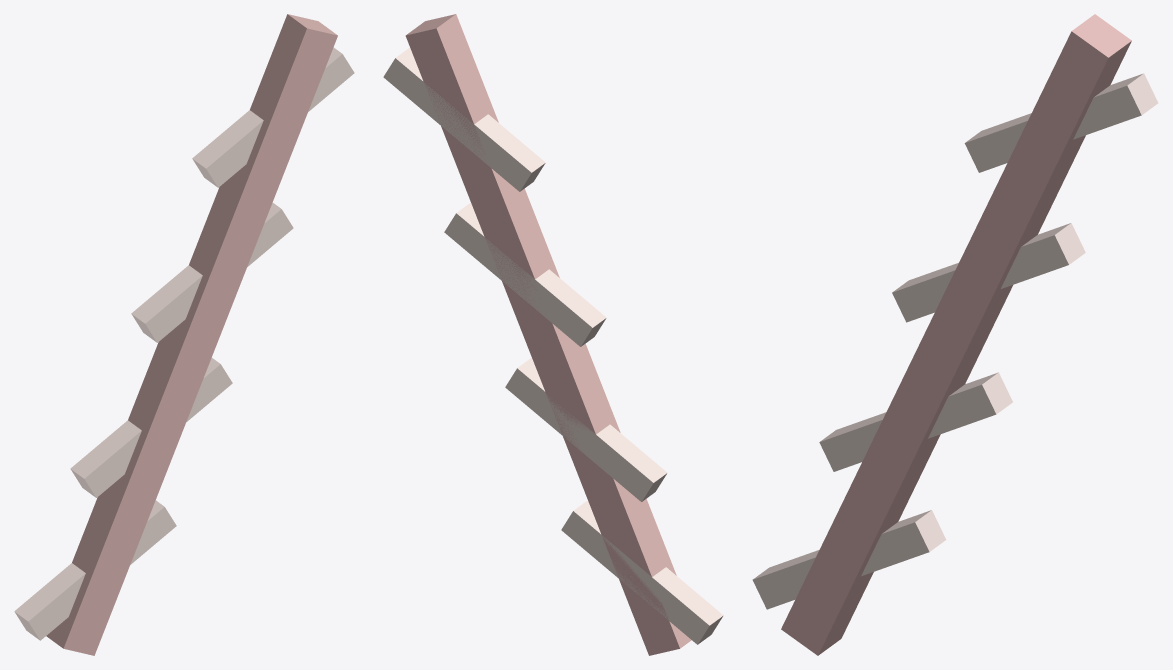
The model's file is cicatriz_rosto.glb.
The picture shows the model from 3 angles, left to right: view 1: azimuth 30°, elevation 25°; view 2: azimuth 150°, elevation 25°; view 3: azimuth 330°, elevation 25°; orthographic projection. The views are drawn at different scales.
Parts seen in each view (by area): view 1: cicatriz_rosto; view 2: cicatriz_rosto; view 3: cicatriz_rosto.
Part boxes in pixels (x1,y1,x2,y2): cicatriz_rosto: (14, 14, 354, 655); cicatriz_rosto: (383, 14, 723, 655); cicatriz_rosto: (752, 14, 1158, 655).
Bounding box in the file's own units: 0.134 × 0.2258 × 0.014.
